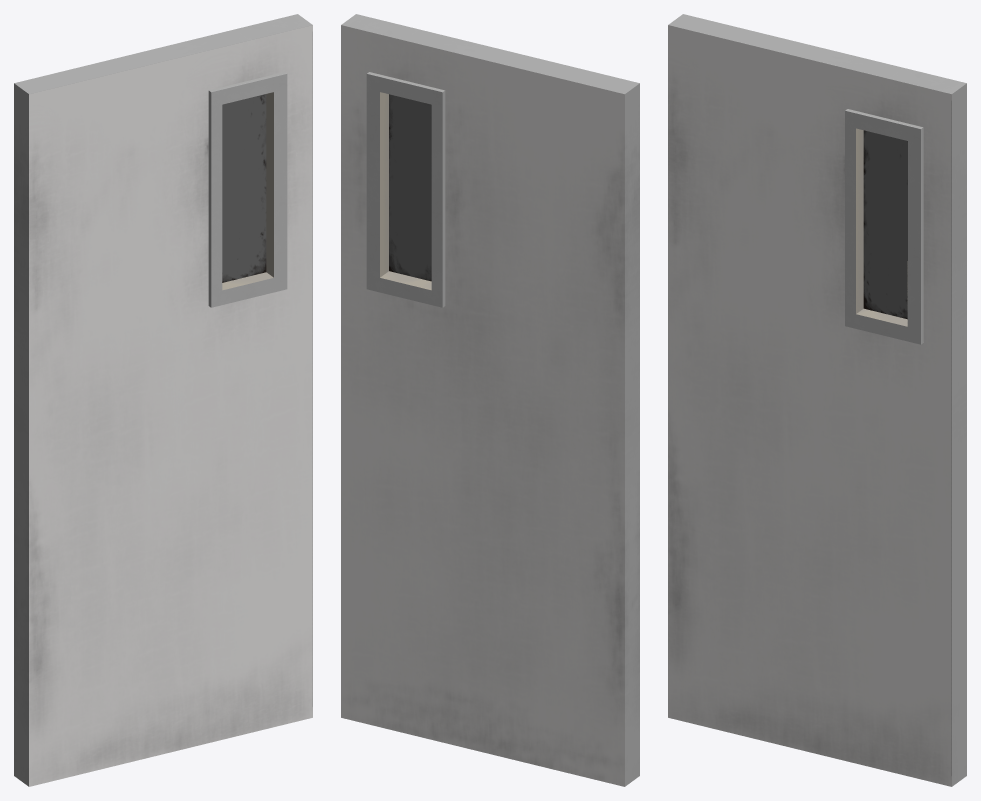
The model's file is LE_intro_door.fbx.
3 views of the same model, side by side, from view 1: azimuth 30°, elevation 25°; view 2: azimuth 150°, elevation 25°; view 3: azimuth 330°, elevation 25° (orthographic).
Parts seen in each view (by area): view 1: Cube.002; view 2: Cube.002; view 3: Cube.002.
Part boxes in pixels (bbox=[...]): Cube.002: bbox=[14, 14, 312, 786]; Cube.002: bbox=[341, 14, 639, 786]; Cube.002: bbox=[668, 14, 966, 786].
Size of the model in its own units: 83.05 by 194 by 10.25.
